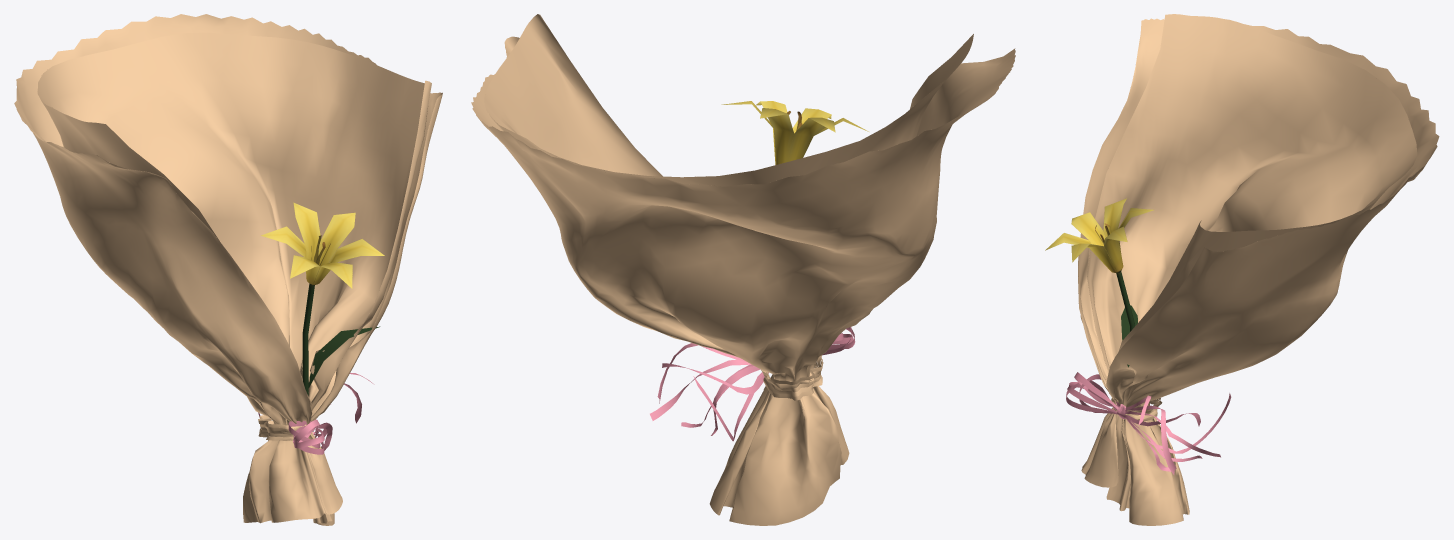
3 renders of one model, left to right at view 1: azimuth 30°, elevation 25°; view 2: azimuth 150°, elevation 25°; view 3: azimuth 270°, elevation 25°, orthographic. The views are drawn at different scales.
Parts seen in each view (by area): view 1: inner, outer, SM_Lilly1, ribbon, parcel_knot; view 2: outer, inner, SM_Lilly1, ribbon, parcel_knot; view 3: inner, outer, SM_Lilly1, ribbon.
Part boxes in pixels (x1,y1,x2,y2): inner: (37,32,431,425); outer: (14,14,442,525); SM_Lilly1: (261,202,384,395); ribbon: (258,373,374,454); parcel_knot: (258,415,306,440); outer: (471,36,1015,525); inner: (484,14,973,186); SM_Lilly1: (721,101,868,164); ribbon: (650,327,855,441); parcel_knot: (761,355,823,400); inner: (1087,14,1417,373); outer: (1078,18,1439,525); SM_Lilly1: (1045,198,1153,367); ribbon: (1066,372,1231,474).
Bounding box in the file's own units: 1.81 × 1.9 × 1.64.
Materials: 6 (1 with a texture image).
